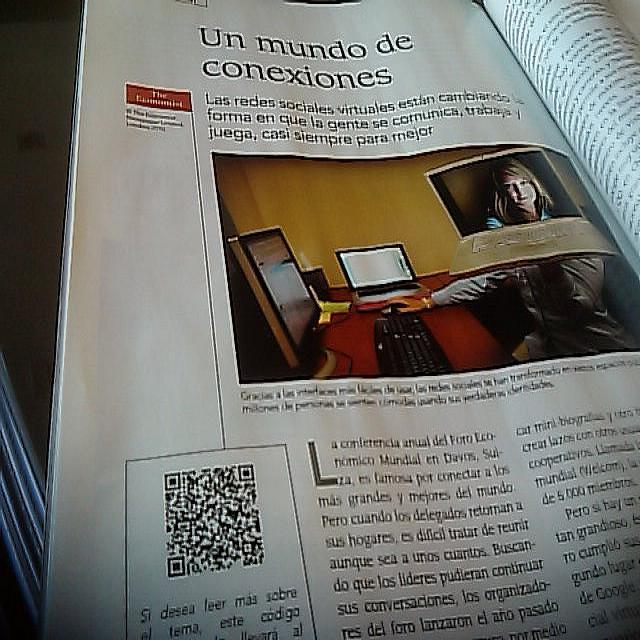qrcode: (166, 466, 266, 577)
